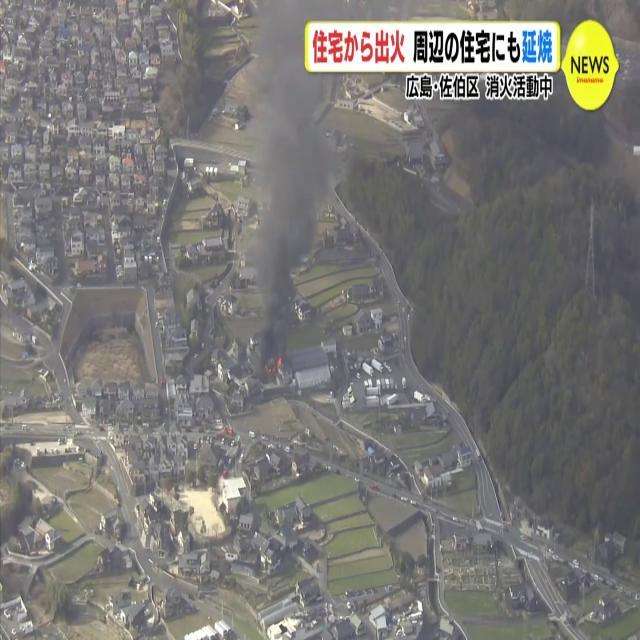Smoke: (248, 48, 336, 366)
